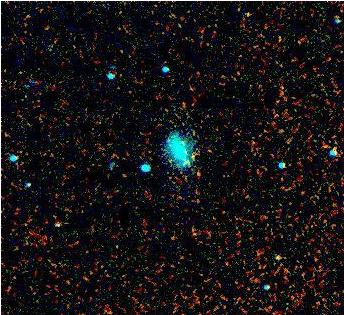star: (262, 243, 292, 273)
